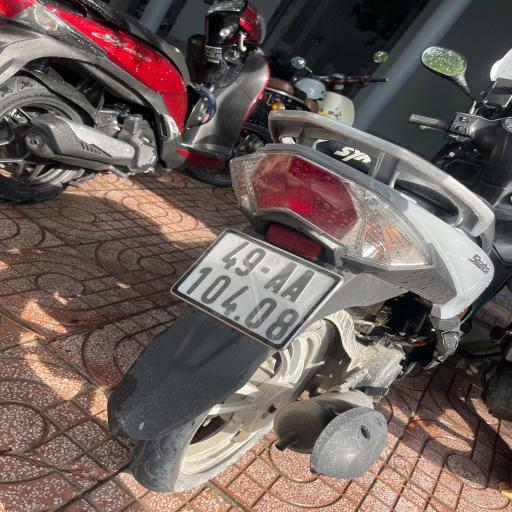0: (244, 295, 284, 333), (204, 274, 228, 307)
1: (182, 264, 216, 300)
4: (223, 280, 255, 319), (220, 238, 248, 270)
8: (270, 306, 301, 340)
9: (235, 244, 264, 278)
A: (290, 267, 320, 308), (262, 258, 298, 292)
